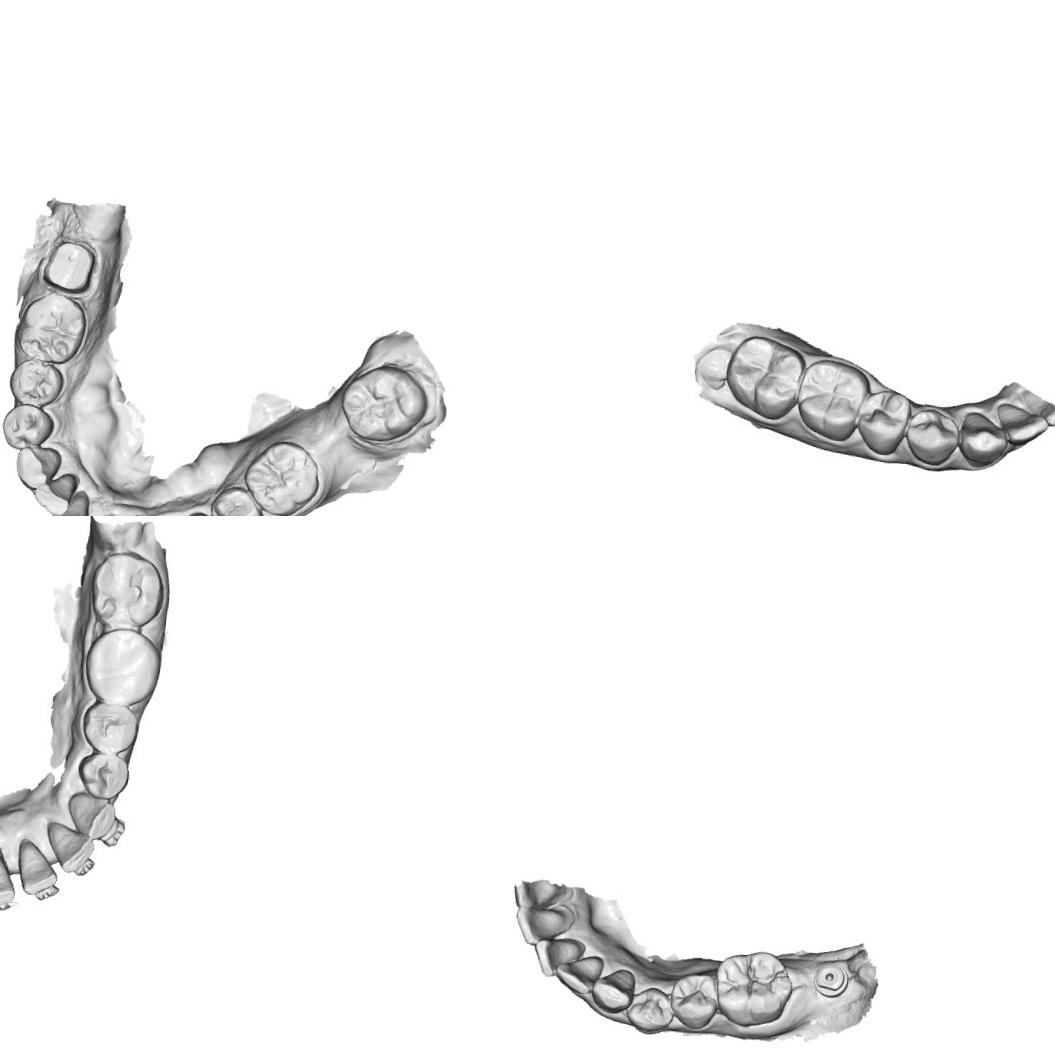canine: (956, 406, 1011, 469), (8, 436, 64, 492), (64, 789, 119, 841), (588, 964, 638, 1016)
crown: (33, 225, 108, 302)
implant: (810, 957, 850, 1000)
incisor: (43, 818, 95, 874), (510, 902, 570, 950), (27, 466, 81, 516), (994, 400, 1048, 449), (550, 950, 605, 998), (529, 933, 585, 980), (16, 839, 59, 898), (46, 485, 94, 516), (0, 850, 17, 908)
molar: (328, 353, 432, 448), (710, 944, 798, 1032), (724, 332, 804, 423), (239, 433, 322, 516), (82, 628, 162, 712), (795, 355, 870, 442), (92, 552, 167, 632), (10, 289, 87, 364)
premolar: (856, 389, 910, 456), (78, 698, 138, 758), (0, 395, 56, 457), (666, 969, 722, 1031), (5, 352, 64, 410), (905, 408, 962, 466), (623, 983, 680, 1037), (76, 750, 132, 800), (206, 479, 266, 516), (172, 502, 226, 516)
